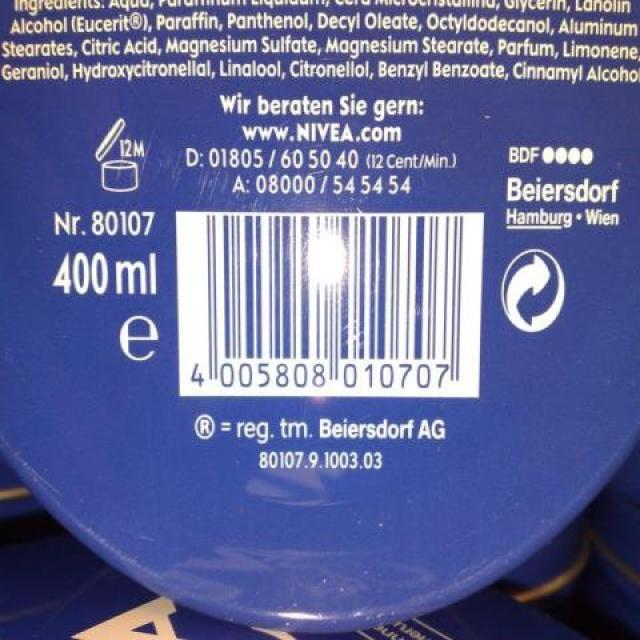Barcode: (176, 211, 484, 397)
